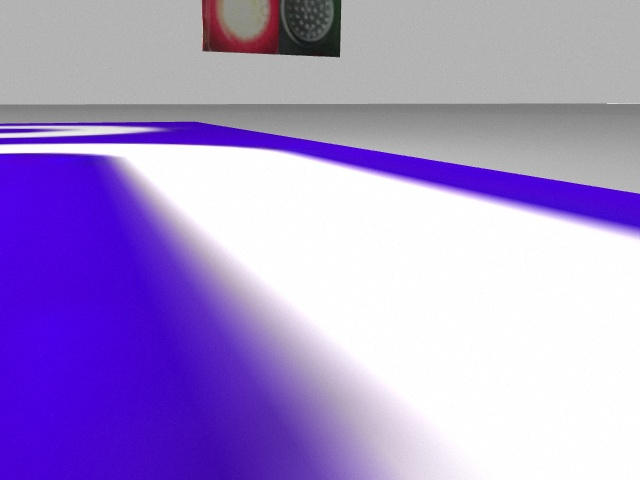red: (202, 1, 280, 54)
